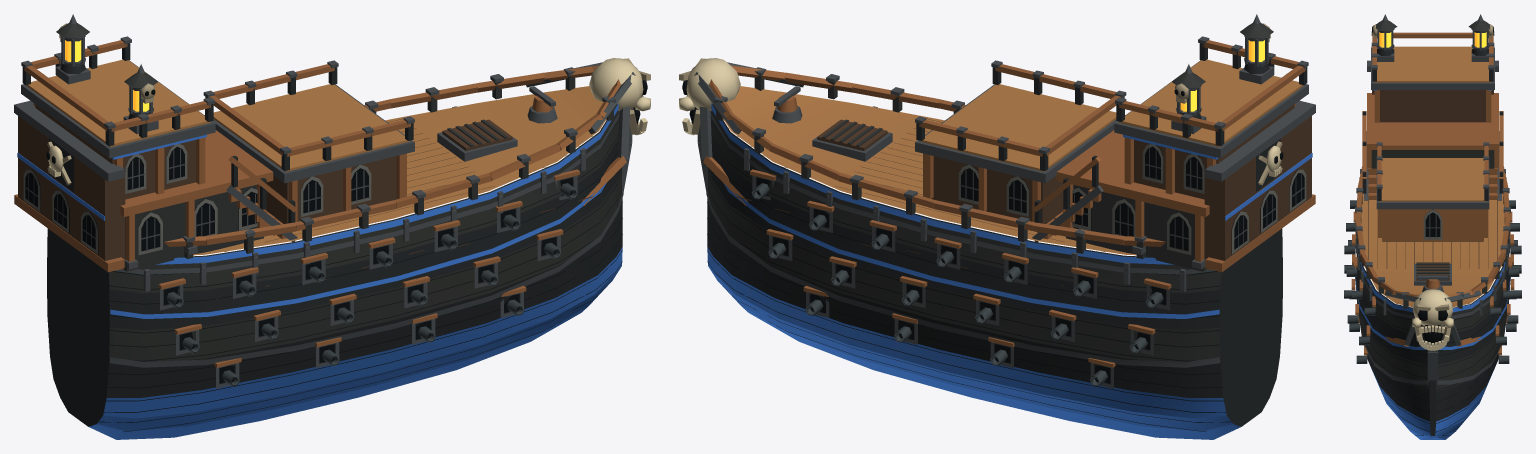
3 renders of one model, left to right at view 1: azimuth 30°, elevation 25°; view 2: azimuth 150°, elevation 25°; view 3: azimuth 270°, elevation 25°, orthographic. The views are drawn at different scales.
Visible parts, largest first — view 1: hull-1-strake-5, hull-1-strake-4, main-deck, hull-1-strake-3, hull-1-strake-2, hull-end-0, hull-1-strake-6, center-roof-deck, hull-1-strake-1, transom-gallery, stern-roof-deck, hull-1-strake-0 (+30 smaller); view 2: hull--1-strake-5, hull--1-strake-4, main-deck, hull--1-strake-3, hull--1-strake-2, hull-end-0, hull--1-strake-6, center-roof-deck, hull--1-strake-1, transom-gallery, stern-roof-deck, hull--1-strake-0 (+30 smaller); view 3: main-deck, center-roof-deck, stern-roof-deck, stern-lower-deck, stern-upper-castle, center-front-oak, hull--1-strake-4, hull-1-strake-4, hull--1-strake-3, hull-1-strake-3, hull--1-strake-5, hull-1-strake-5 (+31 smaller).
Part boxes in pixels (x1=…): hull-1-strake-5: x1=109, y1=138, x2=621, y2=330; hull-1-strake-4: x1=109, y1=168, x2=622, y2=362; main-deck: x1=193, y1=86, x2=606, y2=255; hull-1-strake-3: x1=106, y1=204, x2=622, y2=397; hull-1-strake-2: x1=103, y1=247, x2=622, y2=418; hull-end-0: x1=47, y1=228, x2=109, y2=426; hull-1-strake-6: x1=109, y1=104, x2=619, y2=293; center-roof-deck: x1=213, y1=84, x2=409, y2=171; hull-1-strake-1: x1=97, y1=262, x2=622, y2=431; transom-gallery: x1=18, y1=116, x2=125, y2=260; stern-roof-deck: x1=26, y1=59, x2=210, y2=147; hull-1-strake-0: x1=89, y1=307, x2=587, y2=439; hull--1-strake-5: x1=708, y1=138, x2=1220, y2=330; hull--1-strake-4: x1=707, y1=168, x2=1220, y2=362; main-deck: x1=723, y1=86, x2=1136, y2=255; hull--1-strake-3: x1=707, y1=204, x2=1223, y2=397; hull--1-strake-2: x1=707, y1=247, x2=1226, y2=418; hull-end-0: x1=1220, y1=228, x2=1282, y2=426; hull--1-strake-6: x1=710, y1=104, x2=1220, y2=293; center-roof-deck: x1=920, y1=84, x2=1116, y2=171; hull--1-strake-1: x1=707, y1=262, x2=1232, y2=431; transom-gallery: x1=1204, y1=116, x2=1311, y2=260; stern-roof-deck: x1=1119, y1=59, x2=1303, y2=147; hull--1-strake-0: x1=742, y1=307, x2=1240, y2=439; main-deck: x1=1361, y1=193, x2=1504, y2=307; center-roof-deck: x1=1379, y1=158, x2=1486, y2=201; stern-roof-deck: x1=1374, y1=46, x2=1491, y2=82; stern-lower-deck: x1=1367, y1=93, x2=1498, y2=149; stern-upper-castle: x1=1380, y1=90, x2=1485, y2=122; center-front-oak: x1=1382, y1=209, x2=1483, y2=240; hull--1-strake-4: x1=1436, y1=283, x2=1510, y2=391; hull-1-strake-4: x1=1355, y1=283, x2=1429, y2=391; hull--1-strake-3: x1=1436, y1=345, x2=1500, y2=421; hull-1-strake-3: x1=1365, y1=345, x2=1429, y2=421; hull--1-strake-5: x1=1438, y1=264, x2=1510, y2=363; hull-1-strake-5: x1=1355, y1=264, x2=1427, y2=363.
Size of the model in its own units: 2.55 by 1.66 by 0.9474.
